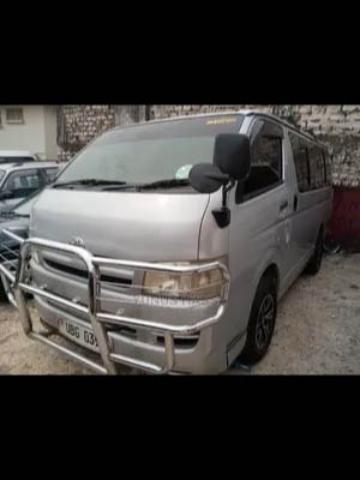van: (0, 108, 332, 370)
